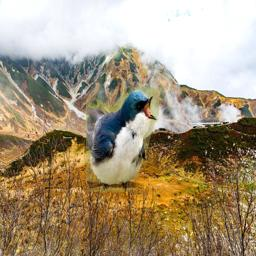Swallow: (86, 86, 159, 192)
